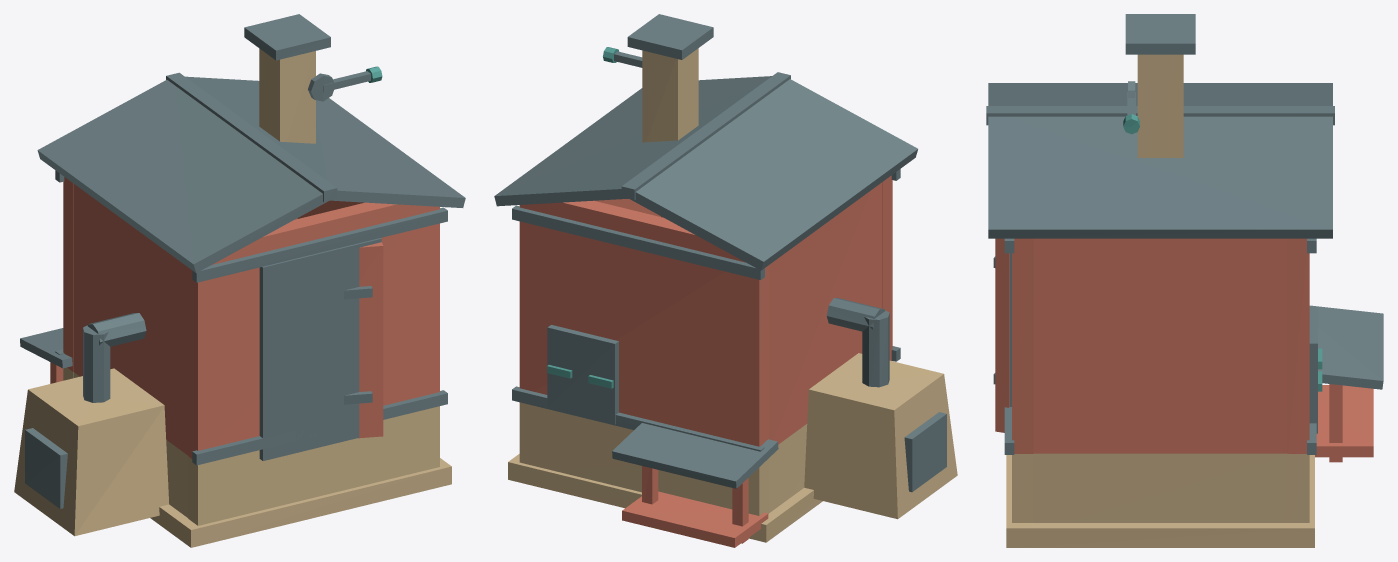
File: Smokehouse.glb
The picture shows the model from 3 angles, left to right: view 1: azimuth 30°, elevation 25°; view 2: azimuth 150°, elevation 25°; view 3: azimuth 270°, elevation 25°; orthographic projection. The views are drawn at different scales.
Visible parts, largest first — view 1: smokehouse-static-smokehouse-weathered-timber-mat, smokehouse-static-smokehouse-muted-galvanized-mat, smokehouse-static-smokehouse-warm-stone-mat, smokehouse-static-smokehouse-dark-iron-mat; view 2: smokehouse-static-smokehouse-weathered-timber-mat, smokehouse-static-smokehouse-muted-galvanized-mat, smokehouse-static-smokehouse-warm-stone-mat, smokehouse-static-smokehouse-dark-iron-mat, smokehouse-static-smokehouse-blue-grey-hardware-mat; view 3: smokehouse-static-smokehouse-weathered-timber-mat, smokehouse-static-smokehouse-muted-galvanized-mat, smokehouse-static-smokehouse-warm-stone-mat, smokehouse-static-smokehouse-dark-iron-mat, smokehouse-static-smokehouse-blue-grey-hardware-mat.
Boxes of the visible parts, bbox=[...] form: smokehouse-static-smokehouse-weathered-timber-mat: bbox=[50, 177, 439, 458]; smokehouse-static-smokehouse-muted-galvanized-mat: bbox=[20, 14, 465, 368]; smokehouse-static-smokehouse-warm-stone-mat: bbox=[14, 48, 451, 547]; smokehouse-static-smokehouse-dark-iron-mat: bbox=[25, 71, 447, 508]; smokehouse-static-smokehouse-weathered-timber-mat: bbox=[519, 175, 892, 547]; smokehouse-static-smokehouse-muted-galvanized-mat: bbox=[494, 14, 917, 488]; smokehouse-static-smokehouse-warm-stone-mat: bbox=[508, 48, 957, 542]; smokehouse-static-smokehouse-dark-iron-mat: bbox=[512, 51, 946, 492]; smokehouse-static-smokehouse-blue-grey-hardware-mat: bbox=[547, 47, 618, 388]; smokehouse-static-smokehouse-weathered-timber-mat: bbox=[995, 238, 1373, 462]; smokehouse-static-smokehouse-muted-galvanized-mat: bbox=[988, 14, 1383, 389]; smokehouse-static-smokehouse-warm-stone-mat: bbox=[1006, 54, 1314, 547]; smokehouse-static-smokehouse-dark-iron-mat: bbox=[986, 81, 1334, 454]; smokehouse-static-smokehouse-blue-grey-hardware-mat: bbox=[1123, 114, 1322, 391].
Bounding box in the file's own units: 3.72 × 4.27 × 3.28.
